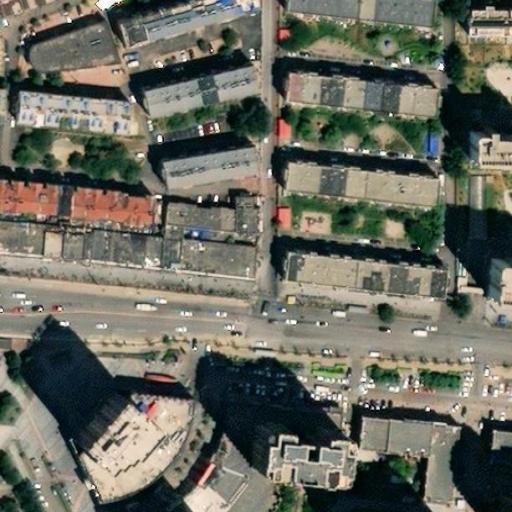building: (0, 240, 261, 298), (280, 165, 443, 222), (135, 69, 260, 133), (287, 83, 439, 130), (285, 263, 452, 305), (123, 0, 257, 51), (0, 189, 146, 234), (71, 416, 148, 494), (354, 409, 466, 456), (25, 28, 120, 80), (259, 427, 340, 483), (164, 159, 256, 203), (21, 106, 127, 144), (166, 214, 258, 252), (424, 453, 463, 504), (464, 128, 512, 163), (475, 15, 512, 45), (484, 425, 512, 456), (273, 114, 290, 141), (0, 333, 14, 351)
